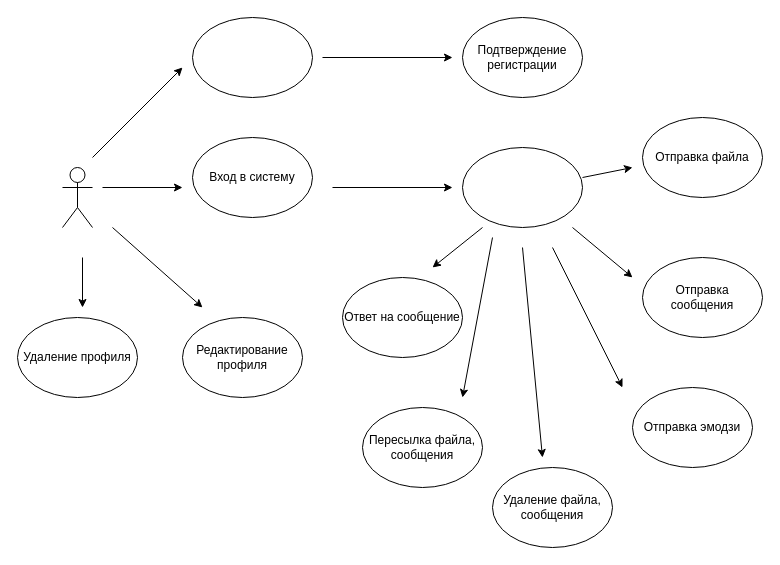
Some shapes in this 780 by 565 pixel diagram are drawn without their labels. The centre of each missing label's shape, as x and y in pixels:
Actor: point (77, 197)
Выбор получателя: point (522, 187)
Создание профиля: point (252, 57)
